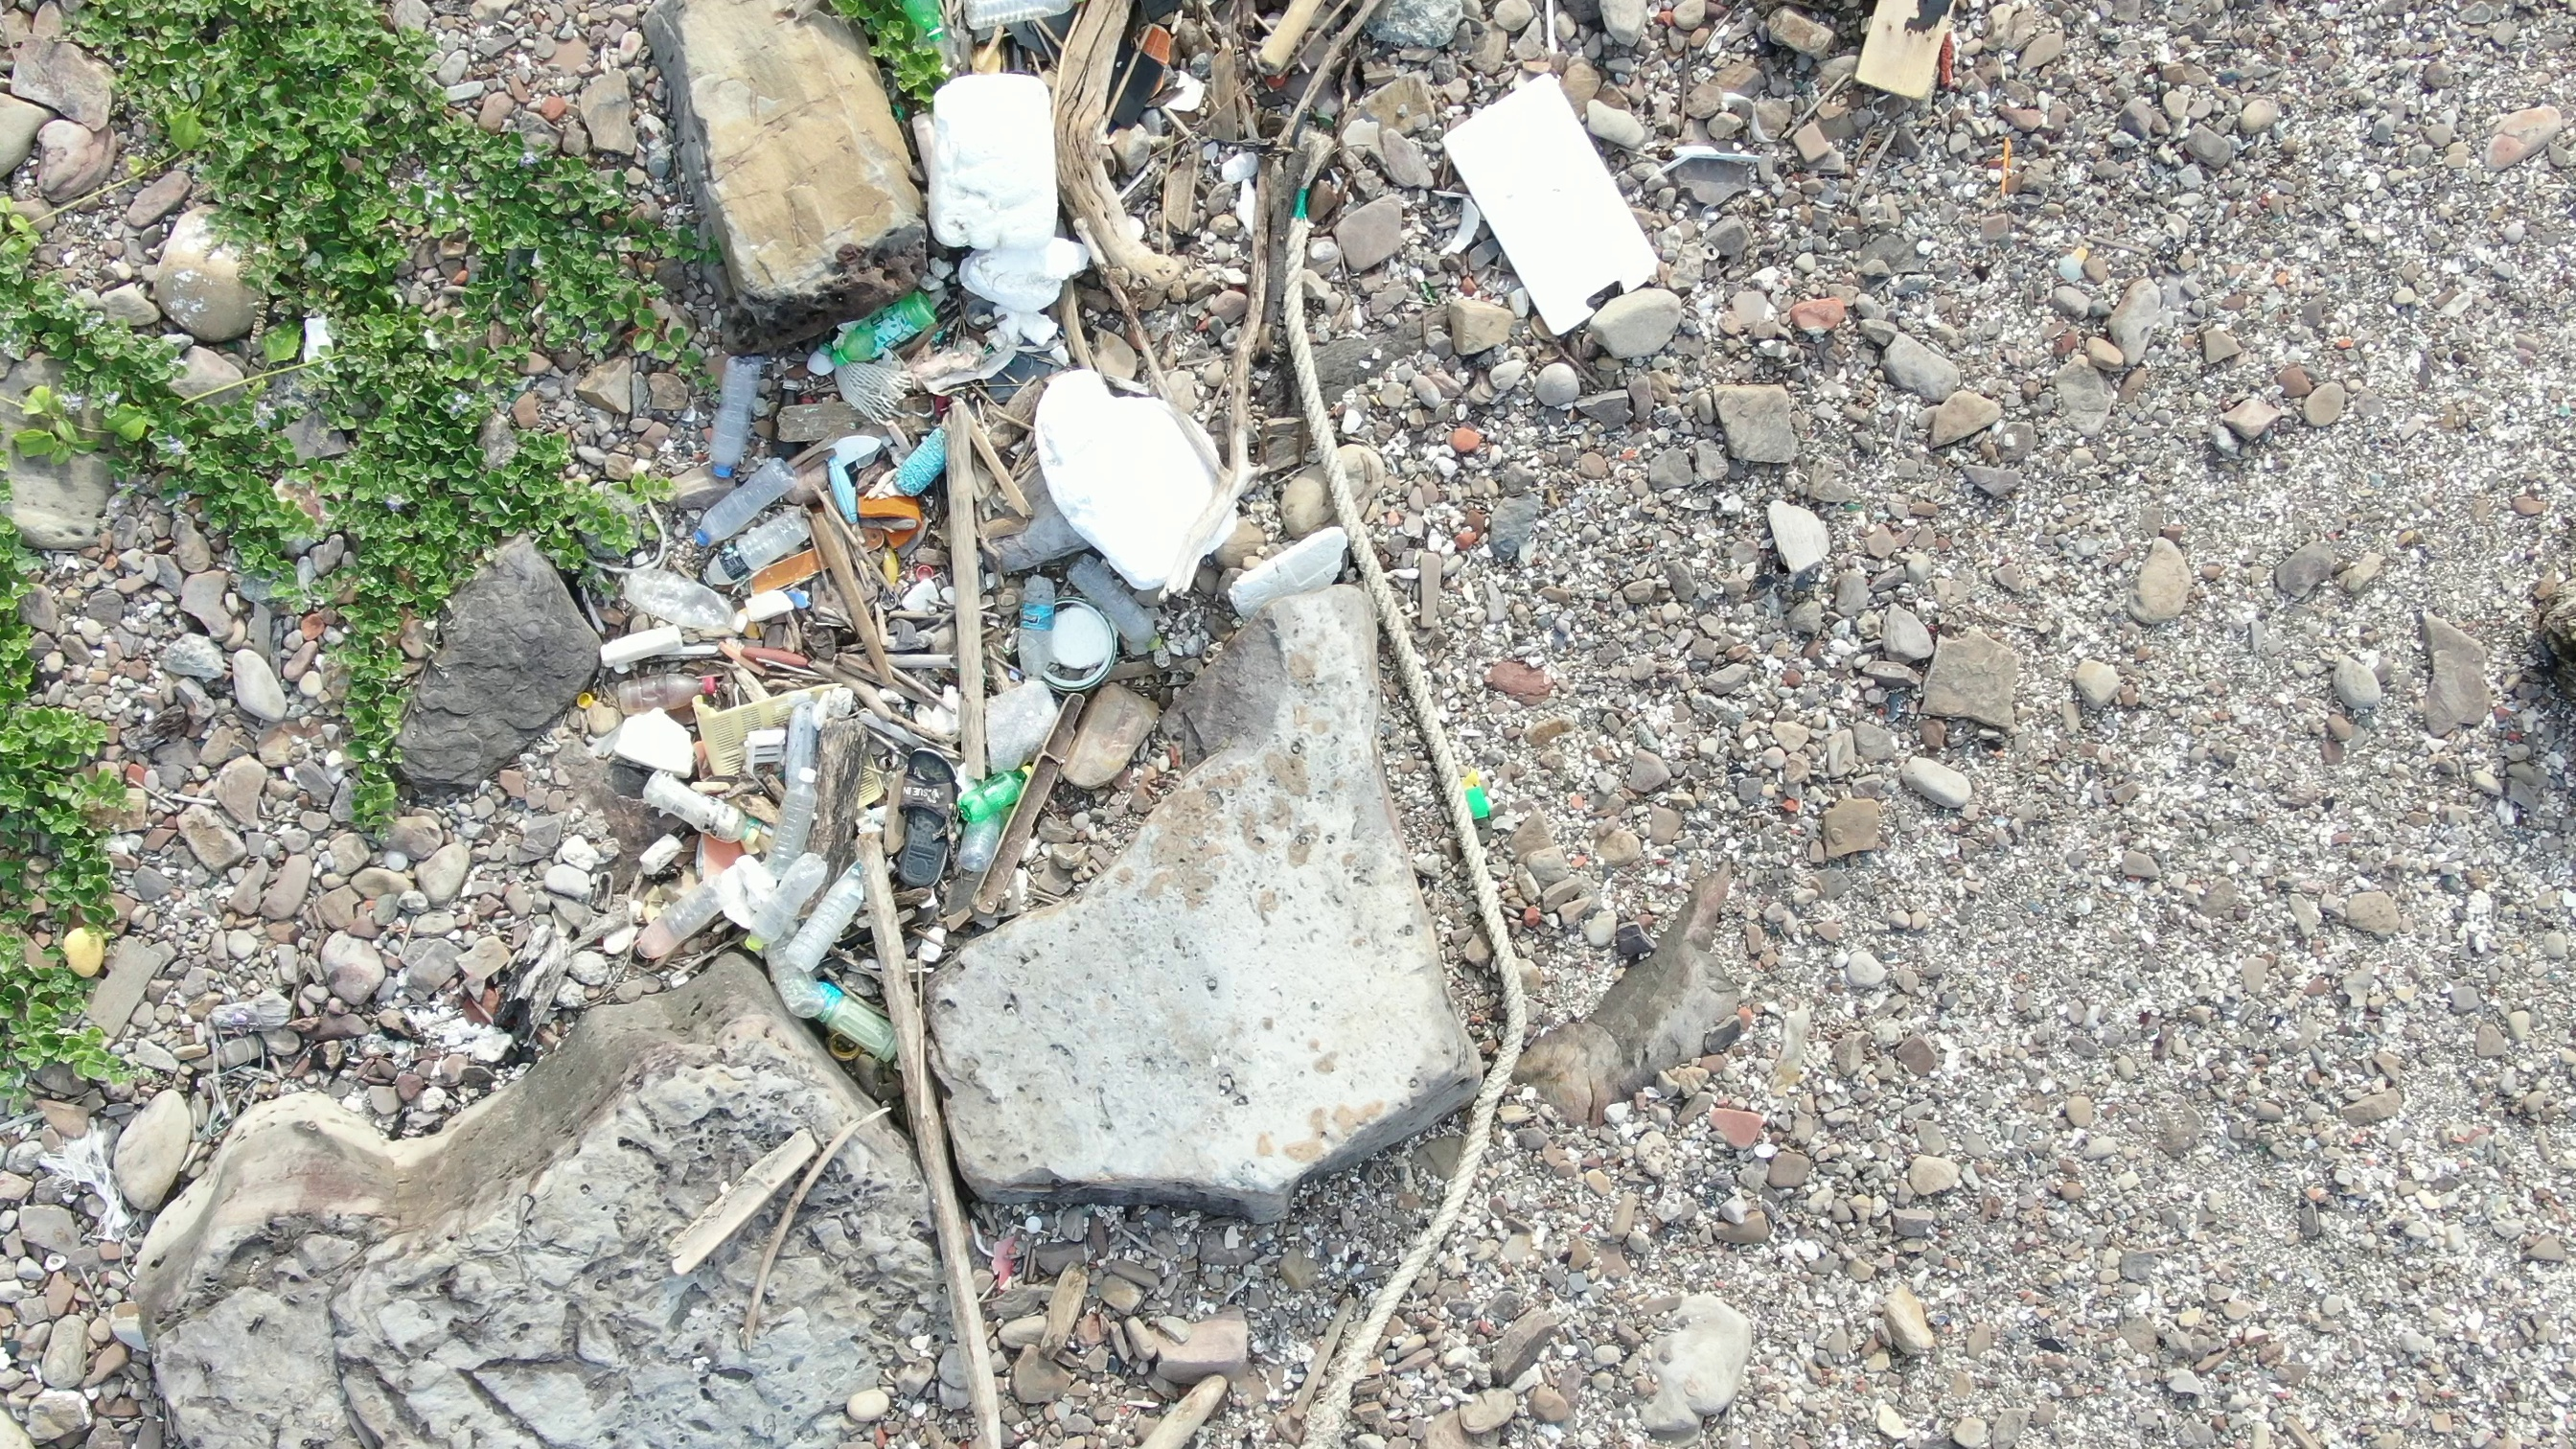bottle: (789, 970, 916, 1079), (814, 271, 945, 361), (639, 862, 764, 955), (701, 502, 835, 586), (786, 853, 881, 970), (690, 451, 805, 547), (697, 336, 764, 490), (637, 768, 768, 840), (768, 759, 833, 885), (955, 752, 1039, 830), (1014, 561, 1063, 688), (902, 2, 948, 53)
garbage: (630, 2, 1523, 1447), (1433, 64, 1658, 324), (1845, 2, 1976, 119)
